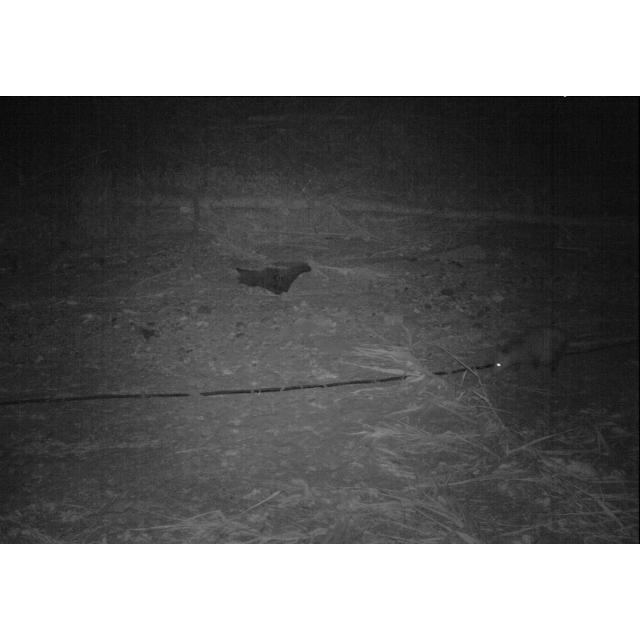animals: (492, 325, 610, 379)
